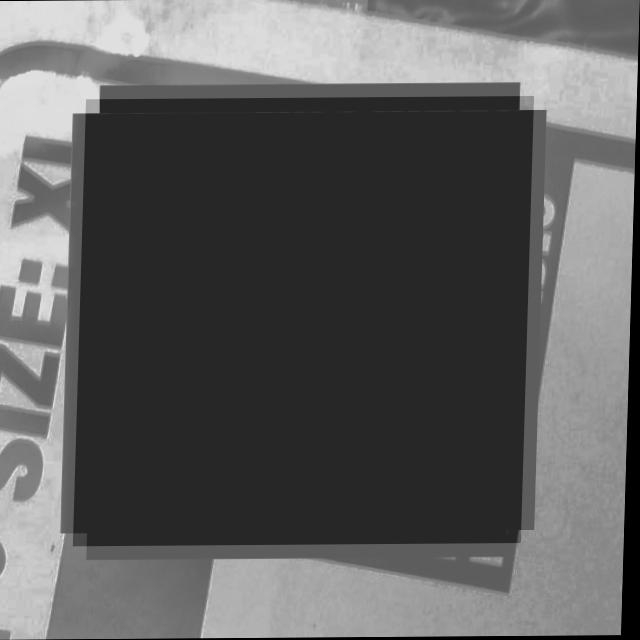qr_code: (76, 96, 535, 545)
